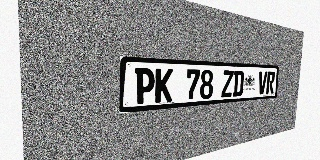7: (185, 69, 200, 100)
8: (199, 70, 214, 99)
D: (232, 71, 244, 97)
K: (155, 68, 173, 103)
P: (134, 68, 155, 105)
R: (266, 71, 275, 94)
V: (257, 71, 267, 95)
Z: (221, 70, 234, 98)
